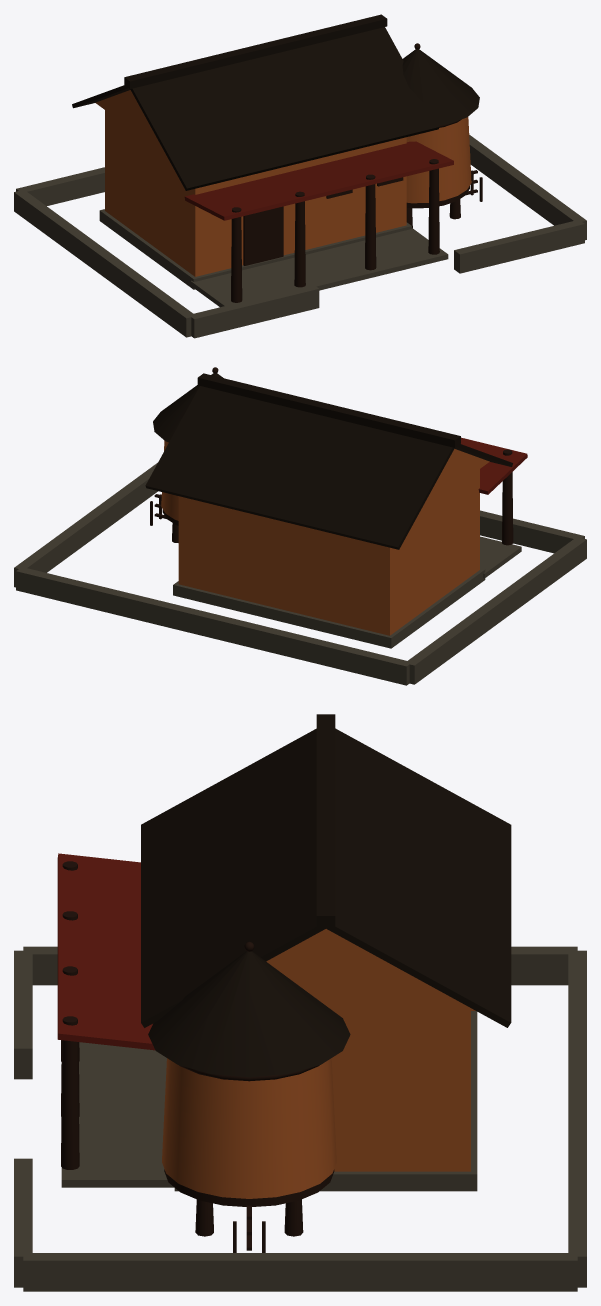
Rendered from south-indian-farmstead.obj.
3 renders of one model, top to bottom at view 1: azimuth 30°, elevation 25°; view 2: azimuth 150°, elevation 25°; view 3: azimuth 270°, elevation 25°, orthographic. The views are drawn at different scales.
Visible parts, largest first — view 1: roof_panel_front, house_walls, veranda_roof, veranda_floor, boundary_left, roof_ridge_cap, granary_conical_thatch_cap, granary_bin_wall, boundary_front_right, boundary_front_left, boundary_right, house_plinth (+7 smaller); view 2: roof_panel_back, house_walls, boundary_back, boundary_left, house_plinth, roof_ridge_cap, boundary_right, boundary_front_left, gable_end_left, veranda_roof, granary_conical_thatch_cap, veranda_floor (+2 smaller); view 3: roof_panel_back, roof_panel_front, boundary_right, house_walls, granary_bin_wall, granary_conical_thatch_cap, veranda_roof, veranda_floor, gable_end_right, boundary_back, roof_ridge_cap, house_plinth (+5 smaller).
Boxes of the visible parts, bbox=[...] form: roof_panel_front: bbox=[130, 27, 439, 190]; house_walls: bbox=[105, 110, 406, 276]; veranda_roof: bbox=[184, 141, 453, 220]; veranda_floor: bbox=[190, 228, 448, 307]; boundary_left: bbox=[14, 191, 195, 337]; roof_ridge_cap: bbox=[124, 14, 387, 88]; granary_conical_thatch_cap: bbox=[402, 49, 479, 125]; granary_bin_wall: bbox=[406, 117, 471, 203]; boundary_front_right: bbox=[454, 221, 584, 273]; boundary_front_left: bbox=[190, 284, 319, 338]; boundary_right: bbox=[469, 135, 586, 240]; house_plinth: bbox=[99, 209, 411, 289]; roof_panel_back: bbox=[145, 386, 454, 549]; house_walls: bbox=[178, 469, 479, 635]; boundary_back: bbox=[16, 568, 411, 685]; boundary_left: bbox=[408, 538, 586, 684]; house_plinth: bbox=[173, 568, 485, 648]; roof_ridge_cap: bbox=[197, 373, 460, 447]; boundary_right: bbox=[14, 462, 157, 587]; boundary_front_left: bbox=[480, 510, 584, 553]; gable_end_left: bbox=[419, 449, 489, 512]; veranda_roof: bbox=[461, 437, 527, 494]; granary_conical_thatch_cap: bbox=[153, 373, 223, 442]; veranda_floor: bbox=[480, 536, 521, 578]; roof_panel_back: bbox=[326, 728, 511, 1027]; roof_panel_front: bbox=[141, 728, 325, 1027]; boundary_right: bbox=[23, 1253, 577, 1291]; house_walls: bbox=[331, 1011, 470, 1171]; granary_bin_wall: bbox=[162, 1058, 336, 1198]; granary_conical_thatch_cap: bbox=[148, 951, 350, 1077]; veranda_roof: bbox=[57, 853, 154, 1050]; veranda_floor: bbox=[61, 1042, 174, 1187]; gable_end_right: bbox=[266, 929, 475, 1010]; boundary_back: bbox=[568, 950, 586, 1287]; roof_ridge_cap: bbox=[316, 714, 335, 928]; house_plinth: bbox=[174, 1011, 477, 1191].
Size of the model in its own units: 8.72 by 3.76 by 6.72.
